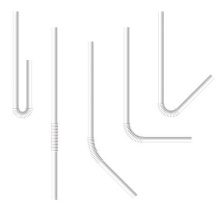drinking_straw: (118, 23, 194, 150), (83, 37, 141, 202), (152, 6, 217, 121), (8, 7, 38, 123), (47, 21, 62, 205)
